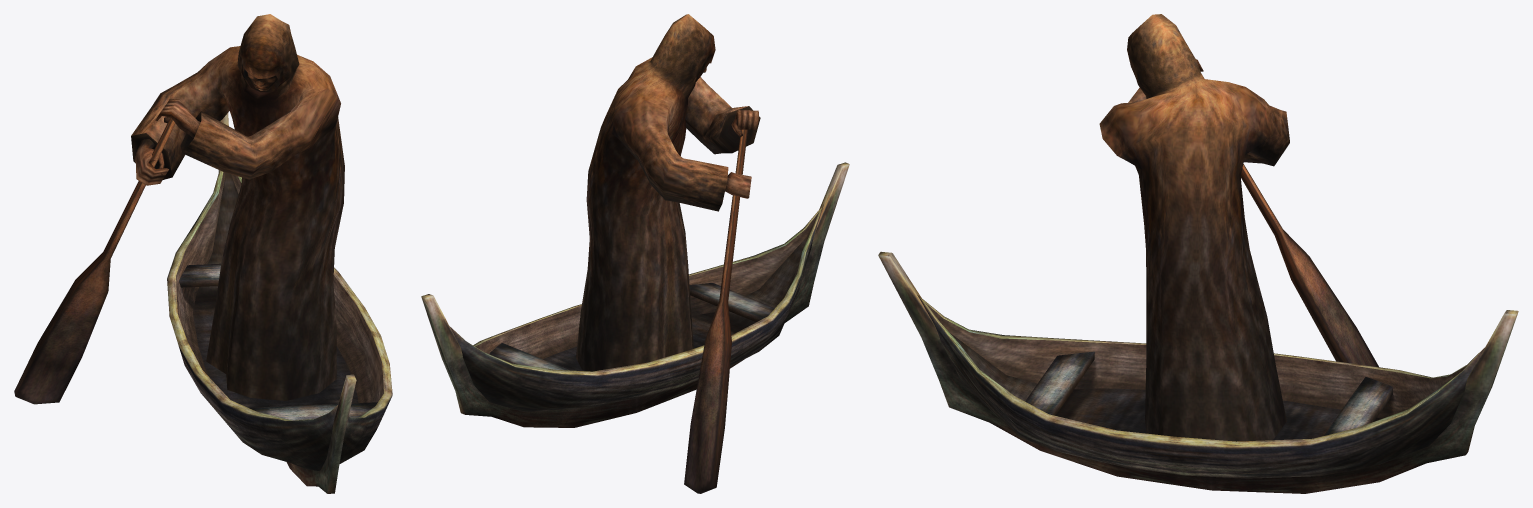
File: Charon.fbx
3 renders of one model, left to right at view 1: azimuth 30°, elevation 25°; view 2: azimuth 150°, elevation 25°; view 3: azimuth 270°, elevation 25°, orthographic. The views are drawn at different scales.
Visible parts, largest first — view 1: Body, Boat, Oar; view 2: Body, Boat, Oar; view 3: Boat, Body, Oar.
Part boxes in pixels (bbox=[...]): Body: bbox=[131, 14, 344, 400]; Boat: bbox=[167, 113, 392, 493]; Oar: bbox=[14, 118, 175, 404]; Body: bbox=[576, 14, 760, 371]; Boat: bbox=[421, 162, 849, 427]; Oar: bbox=[684, 129, 747, 493]; Boat: bbox=[878, 251, 1518, 493]; Body: bbox=[1099, 14, 1289, 441]; Oar: bbox=[1240, 164, 1378, 367].
Bounding box in the file's own units: 933 × 1377 × 1747.
1 material, 1 textured.
